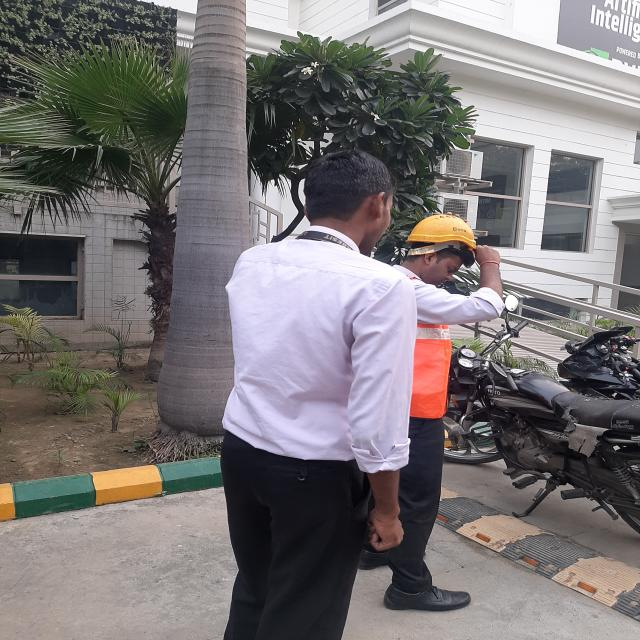safe: (408, 209, 505, 612)
unsafe: (216, 153, 410, 640)
